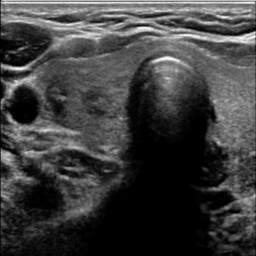mass: (45, 78, 77, 129)
